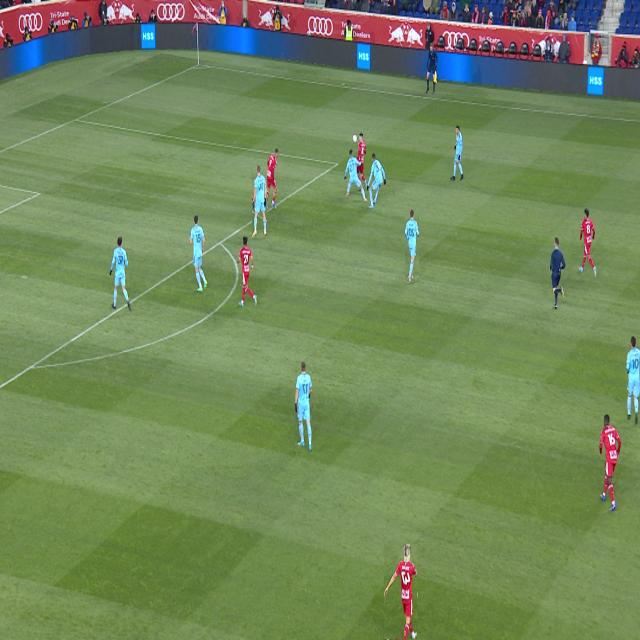football: (352, 134, 357, 143)
player: (385, 545, 417, 639), (600, 415, 621, 511), (110, 237, 131, 311), (295, 362, 312, 452), (189, 215, 207, 293), (238, 237, 257, 307), (344, 149, 368, 203), (579, 208, 597, 278), (626, 336, 640, 425), (252, 165, 267, 237), (367, 153, 386, 208), (405, 209, 419, 283), (266, 148, 279, 209), (450, 126, 463, 180), (357, 133, 367, 189)
referee: (550, 237, 565, 308)
